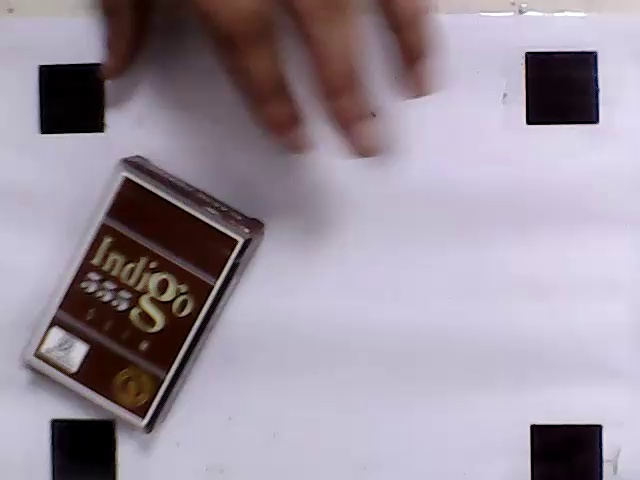BEX: (28, 172, 241, 423)
